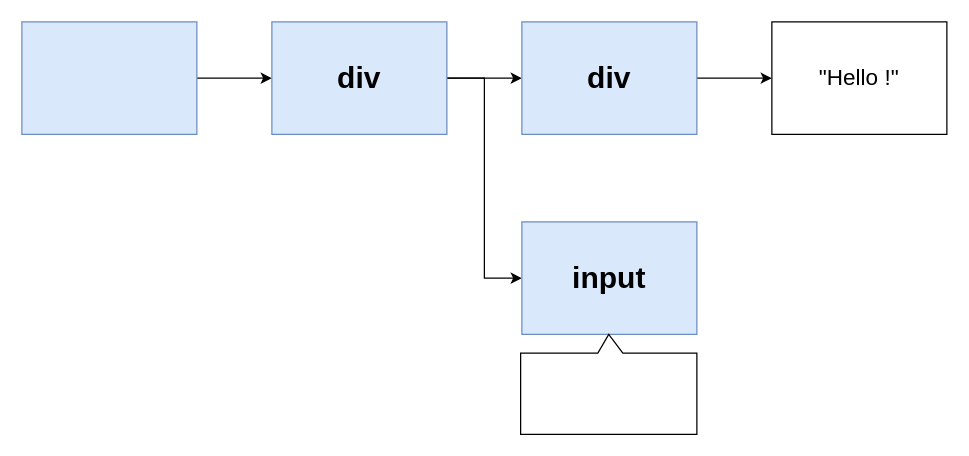
This 969x456 diagram has some shape labels left out. The shapes that lost their labels are listed below. From the top down, each one's box as (x1, y1, x2, y2) in pixels, then its label:
(21, 21, 197, 134): App
(519, 333, 697, 434): type: "text" value: ""
